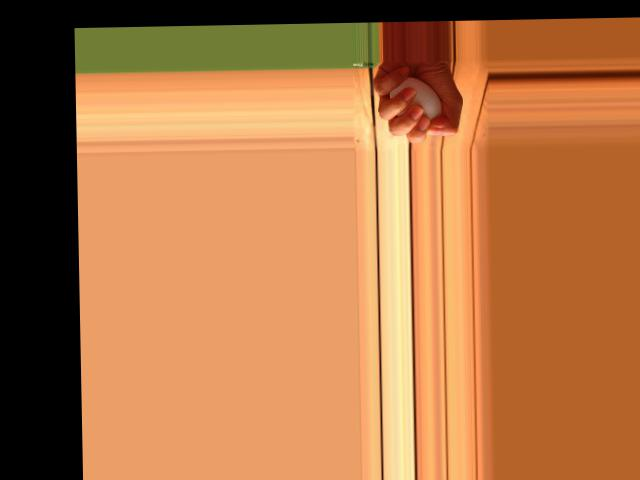egg: (388, 75, 442, 119)
